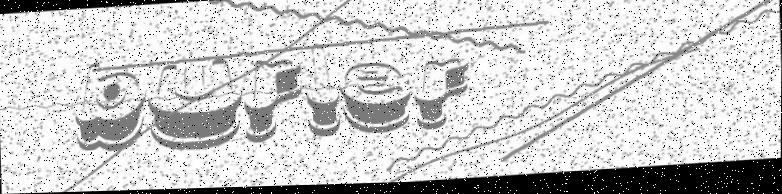b: (72, 59, 149, 154)
e: (339, 57, 414, 137)
l: (303, 45, 341, 140)
r: (243, 58, 306, 146), (413, 59, 472, 133)
u: (147, 61, 245, 154)
